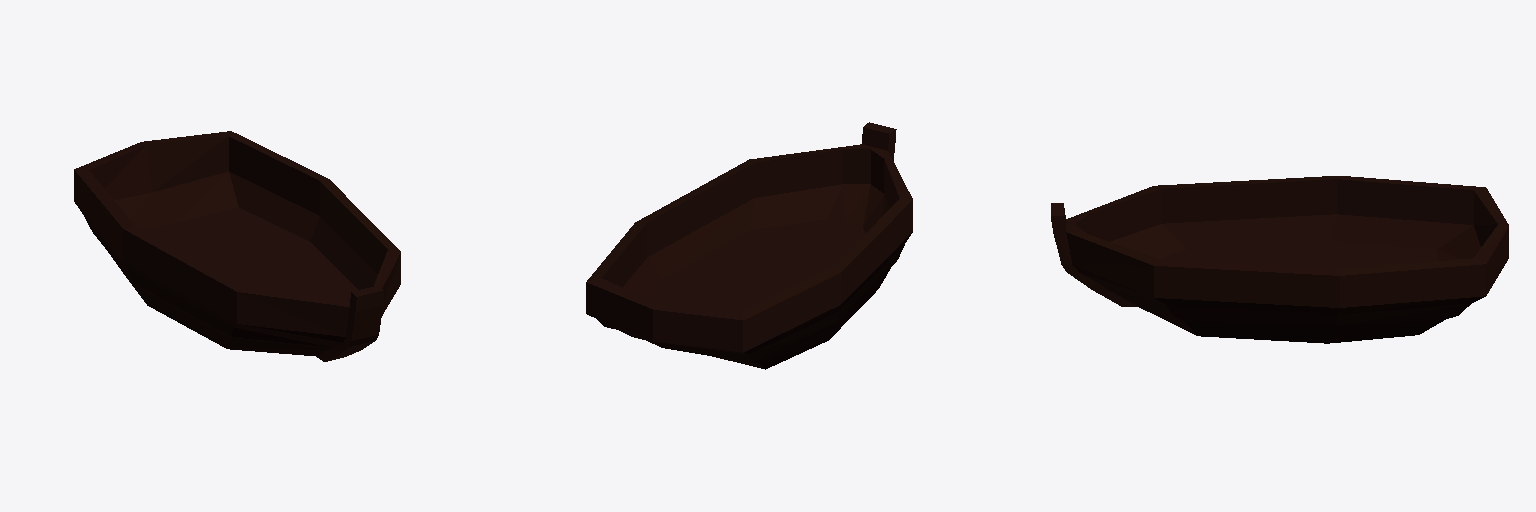
Rendered from Boat.obj.
3 views of the same model, side by side, from view 1: azimuth 30°, elevation 25°; view 2: azimuth 150°, elevation 25°; view 3: azimuth 270°, elevation 25° (orthographic).
Parts seen in each view (by area): view 1: Boat_Cube.004; view 2: Boat_Cube.004; view 3: Boat_Cube.004.
Part boxes in pixels (left/top/right/bottom): Boat_Cube.004: left=74, top=131, right=400, bottom=361; Boat_Cube.004: left=586, top=122, right=912, bottom=369; Boat_Cube.004: left=1051, top=176, right=1508, bottom=343.
Size of the model in its own units: 4.67 by 2.01 by 9.01.